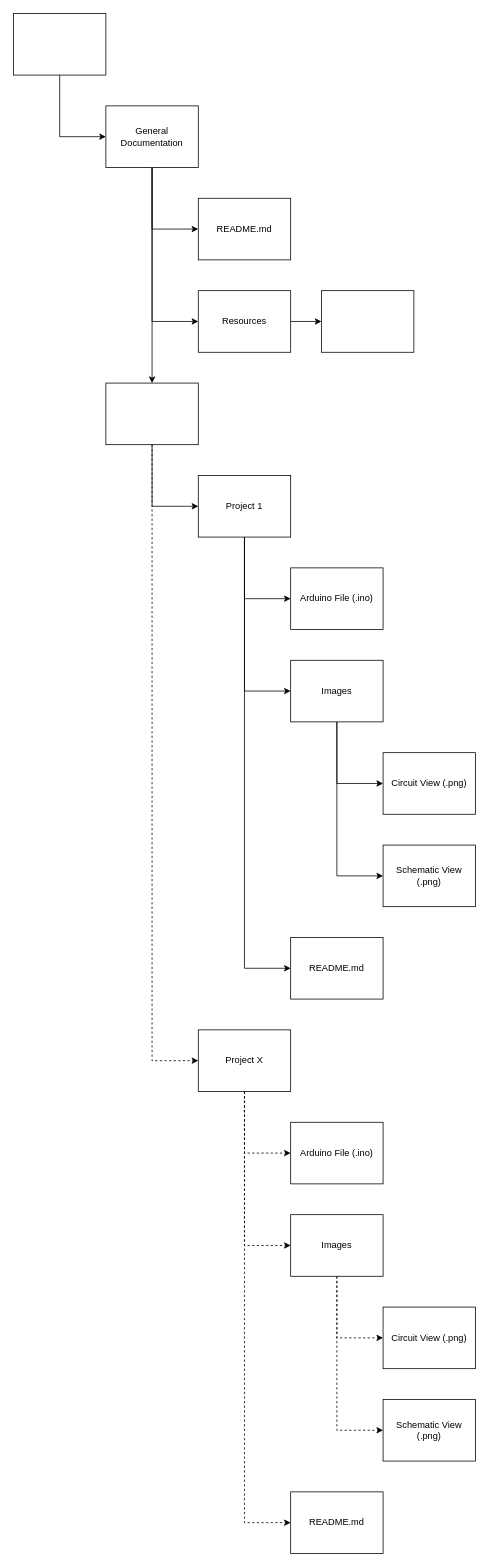
This 489x1567 diagram has some shape labels left out. The shapes that lost their labels are listed below. From the top down, each one's box as (x1, y1, x2, y2) in pixels, then its label:
(13, 13, 106, 75): Root
(321, 290, 414, 352): Images, etc. for README.md use.
(105, 382, 198, 445): Projects
